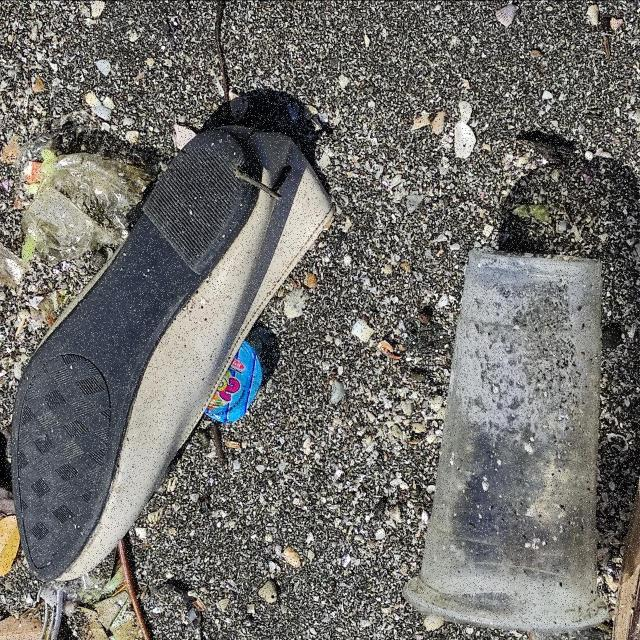plastic_waste: (400, 247, 613, 633)
rubber_waste: (9, 125, 339, 586)
